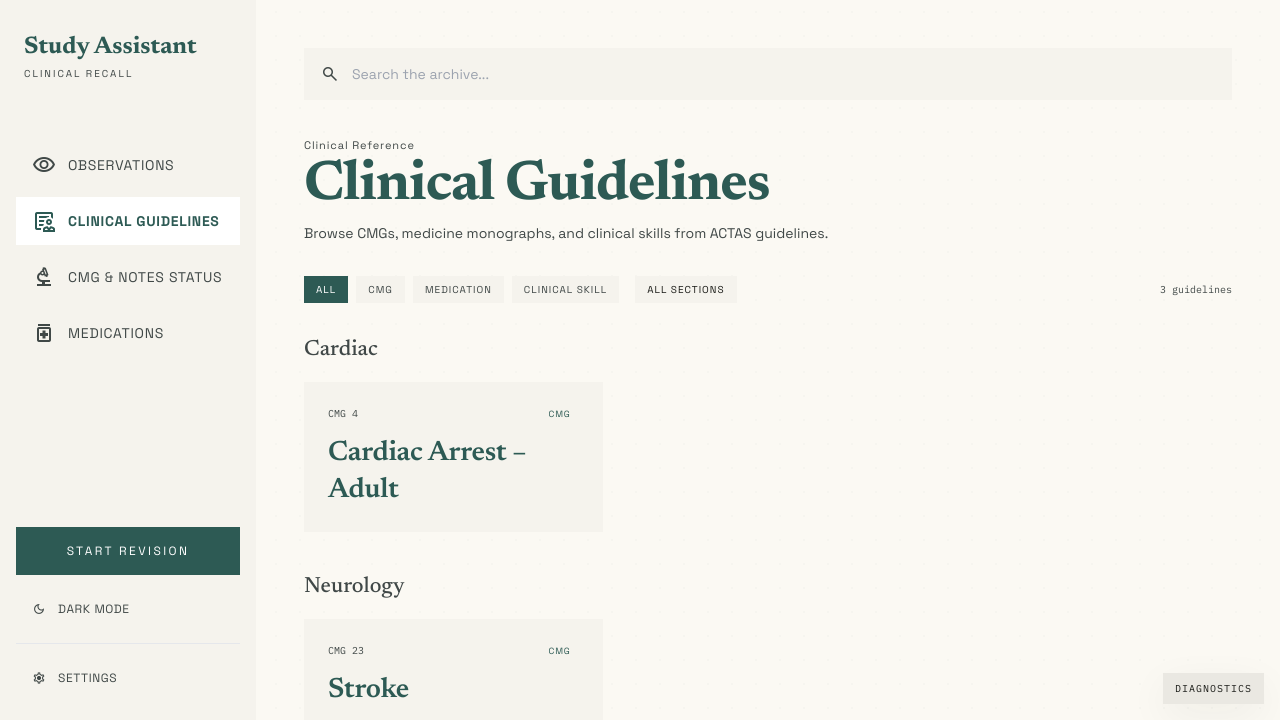
Guidelines page › opens side panel when a card is clicked
Click the text "Cardiac Arrest – Adult" at (427, 453), box [328,439,526,504]
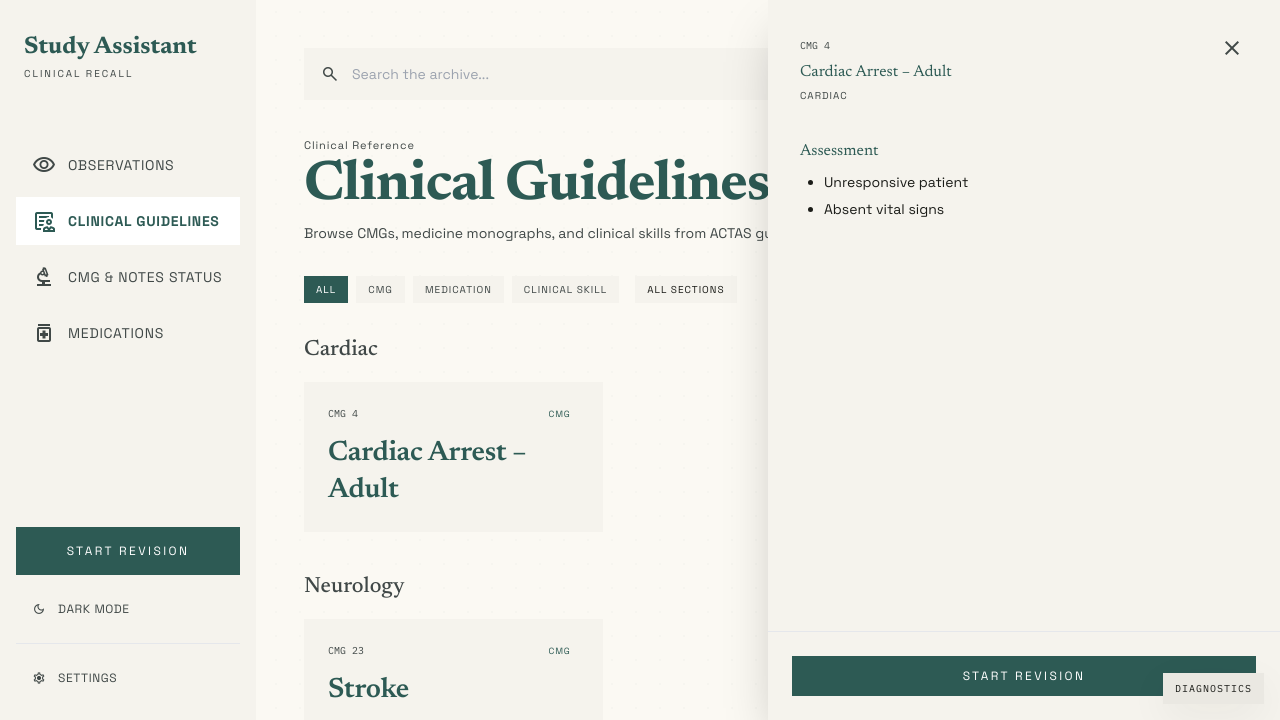
expect the heading "Assessment" is shown: met, box [800,143,879,159]
